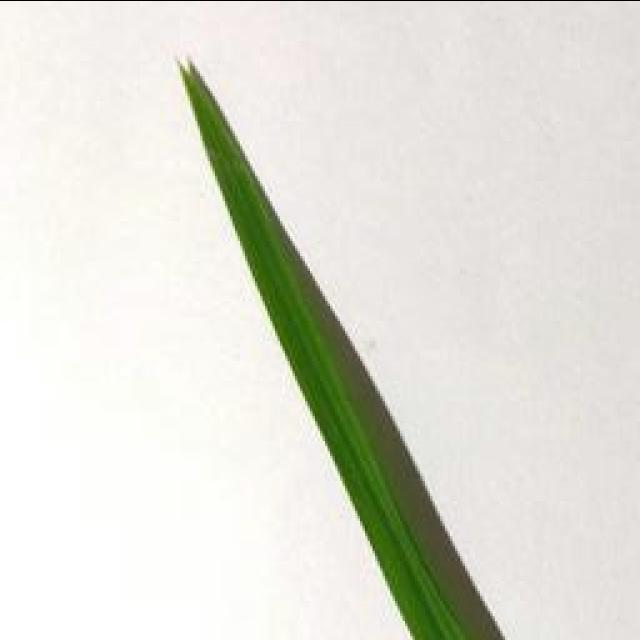Healthy: (175, 56, 477, 640)
